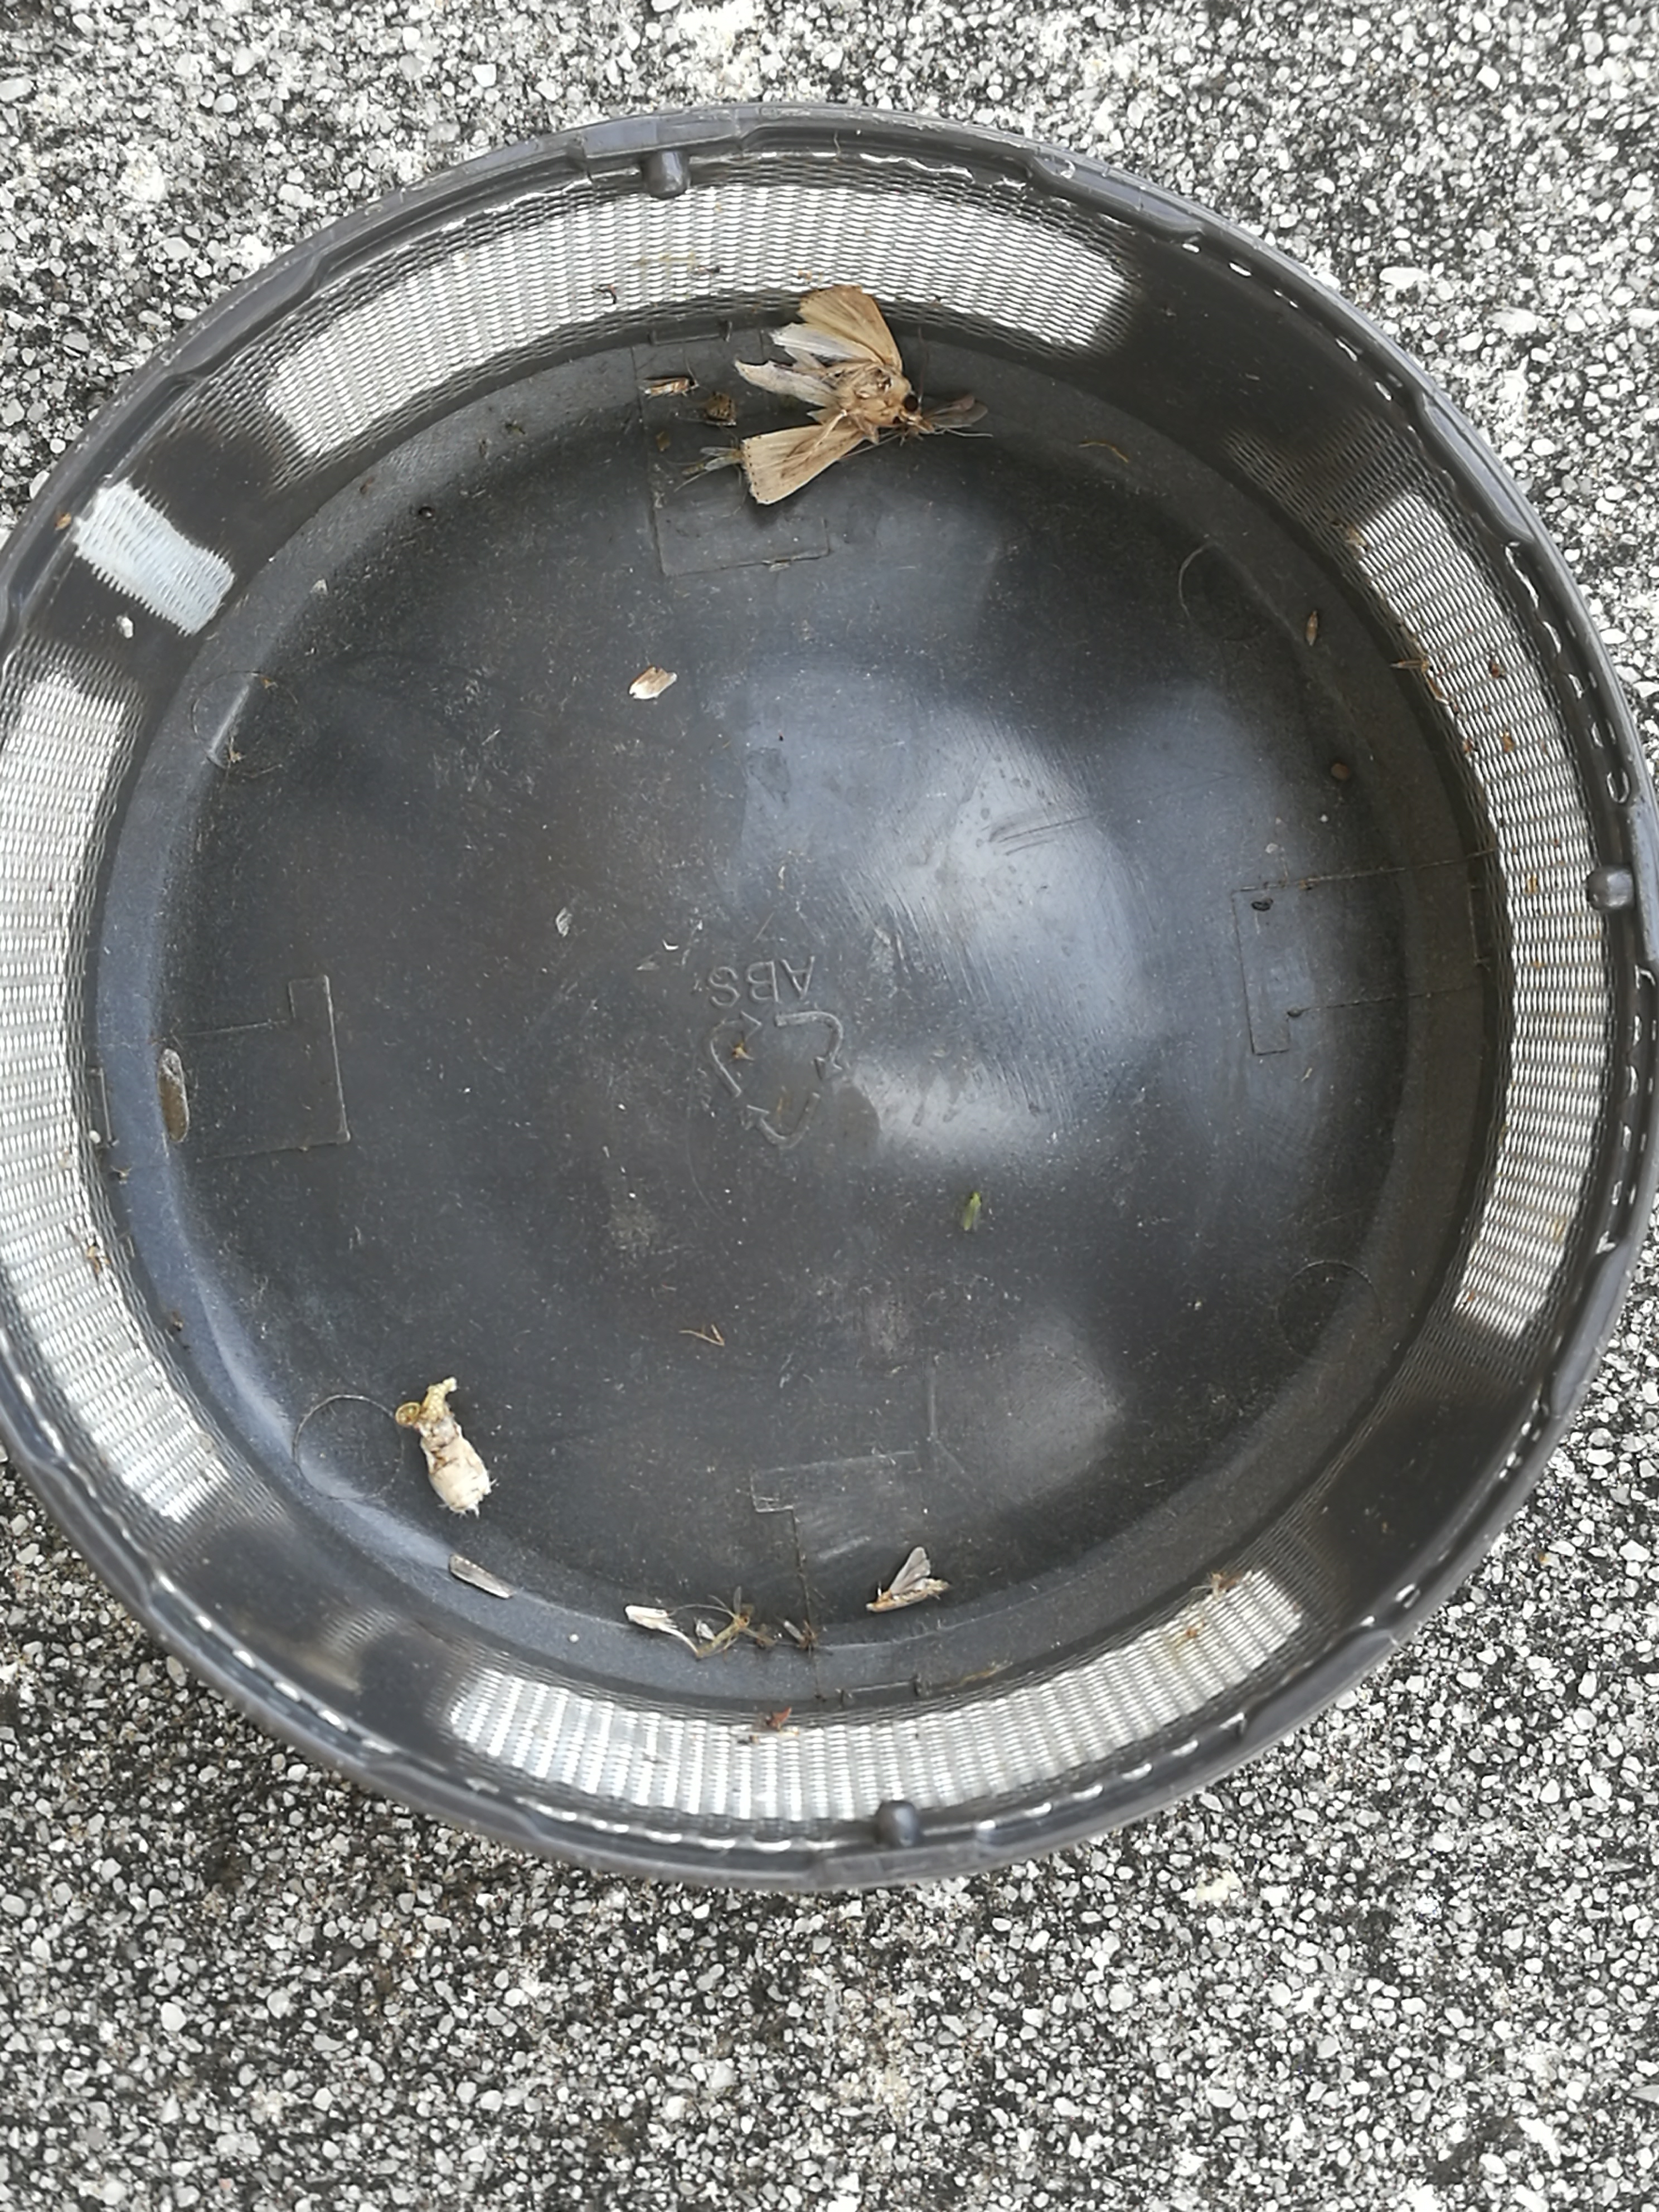mosquito: (903, 395, 988, 435), (701, 446, 742, 470), (643, 376, 690, 397)
moth: (741, 289, 920, 502), (868, 1545, 951, 1611)
